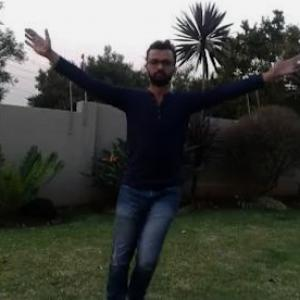takeoff: (41, 36, 299, 286)
